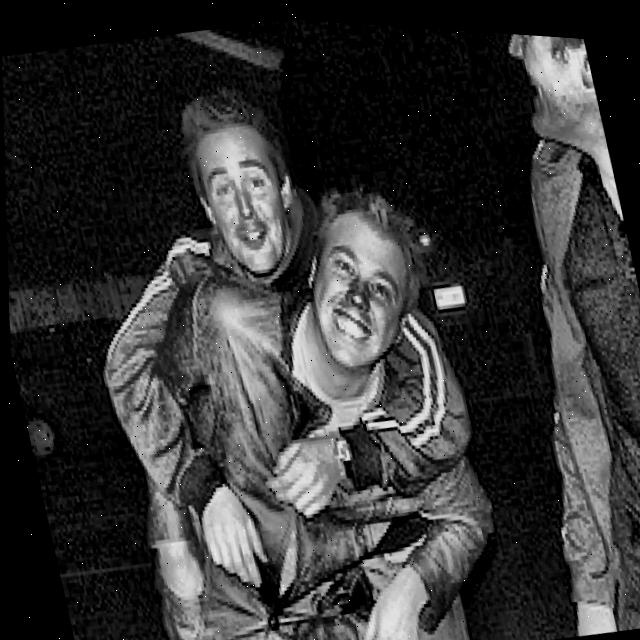light_vehicle: (7, 305, 127, 463)
